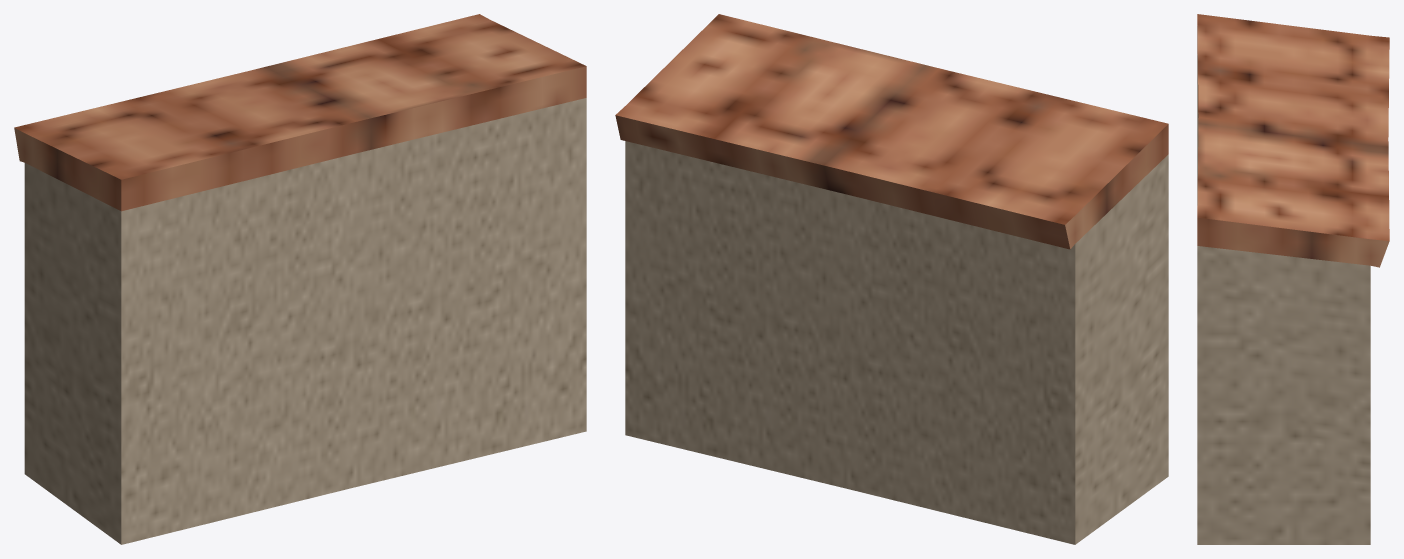
The model's file is Urban_PlasterWallHalf_Model.fbx.
3 views of the same model, side by side, from view 1: azimuth 30°, elevation 25°; view 2: azimuth 150°, elevation 25°; view 3: azimuth 270°, elevation 25° (orthographic). The views are drawn at different scales.
Parts seen in each view (by area): view 1: Urban_PlasterWallHalf_Mesh; view 2: Urban_PlasterWallHalf_Mesh; view 3: Urban_PlasterWallHalf_Mesh.
Part boxes in pixels (<box>): Urban_PlasterWallHalf_Mesh: <box>14,14,586,544</box>; Urban_PlasterWallHalf_Mesh: <box>615,14,1168,544</box>; Urban_PlasterWallHalf_Mesh: <box>1197,14,1389,544</box>.
Bounding box in the file's own units: 1 × 0.7498 × 0.3991.
